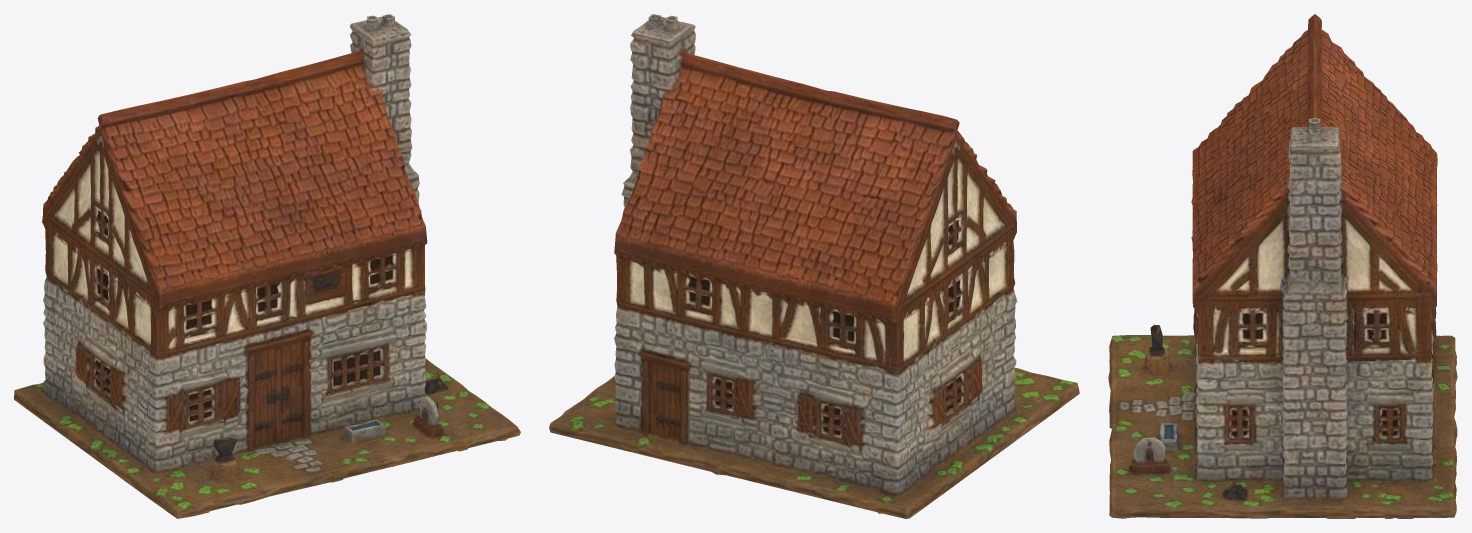
File: smithy.glb
3 views of the same model, side by side, from view 1: azimuth 30°, elevation 25°; view 2: azimuth 150°, elevation 25°; view 3: azimuth 270°, elevation 25° (orthographic). The views are drawn at different scales.
Parts seen in each view (by area): view 1: building_smithy; view 2: building_smithy; view 3: building_smithy.
Boxes of the visible parts, bbox=[...] form: building_smithy: bbox=[14, 14, 520, 518]; building_smithy: bbox=[549, 14, 1079, 518]; building_smithy: bbox=[1108, 14, 1457, 518].
Bounding box in the file's own units: 7.77 × 7.67 × 6.51.
1 material, 1 textured.
